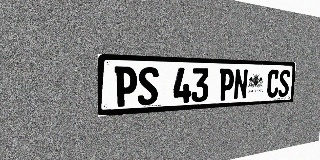3: (191, 68, 209, 102)
4: (173, 67, 192, 104)
C: (266, 69, 280, 98)
N: (233, 69, 248, 100)
P: (114, 66, 137, 107), (218, 68, 234, 101)
S: (137, 67, 159, 106), (278, 70, 290, 97)
